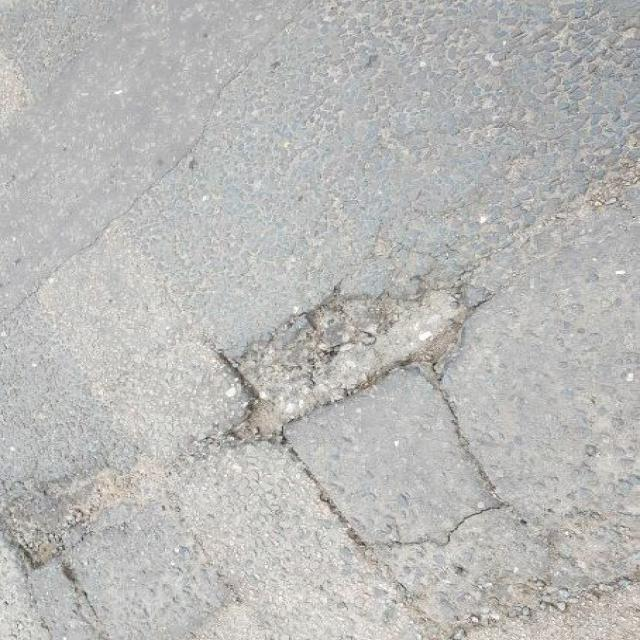pothole: (203, 262, 493, 448), (0, 448, 168, 570)
